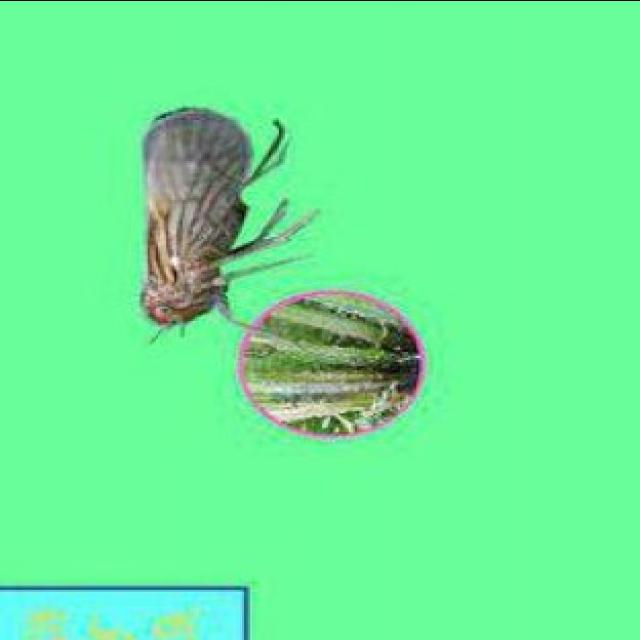brown plant hopper: (142, 107, 302, 324)
